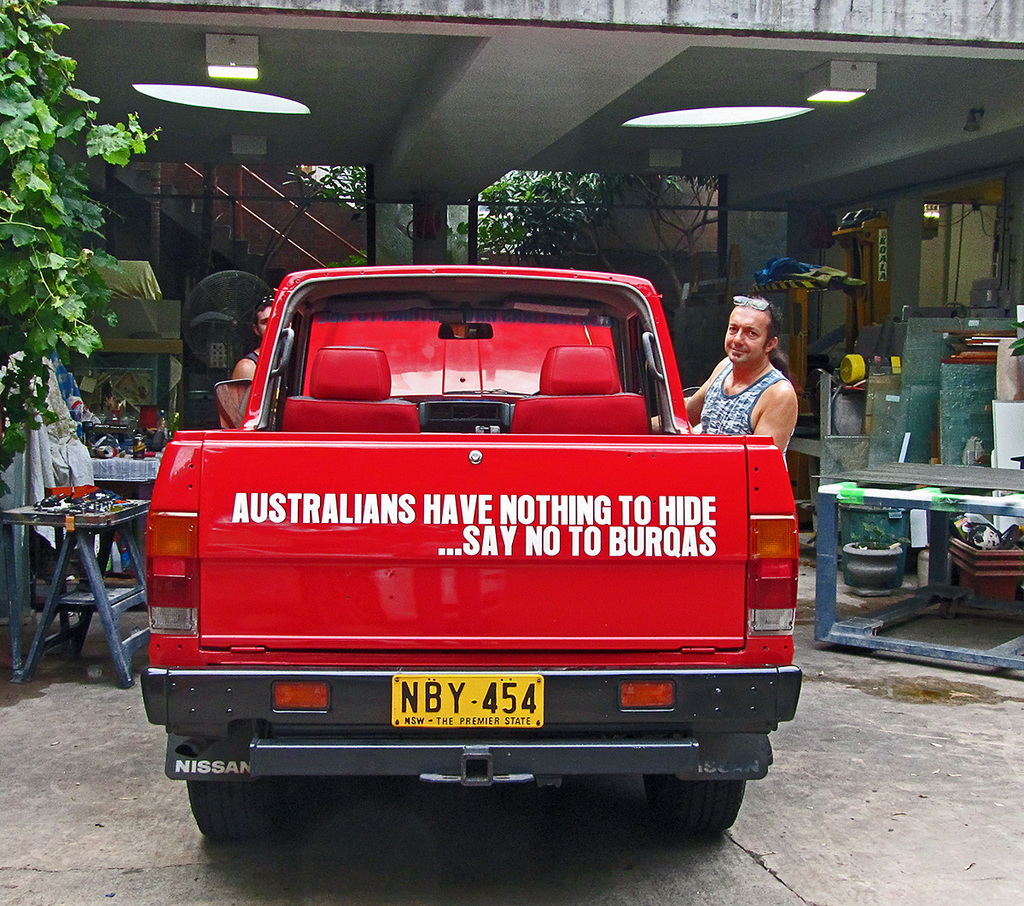Car: (145, 252, 761, 852)
